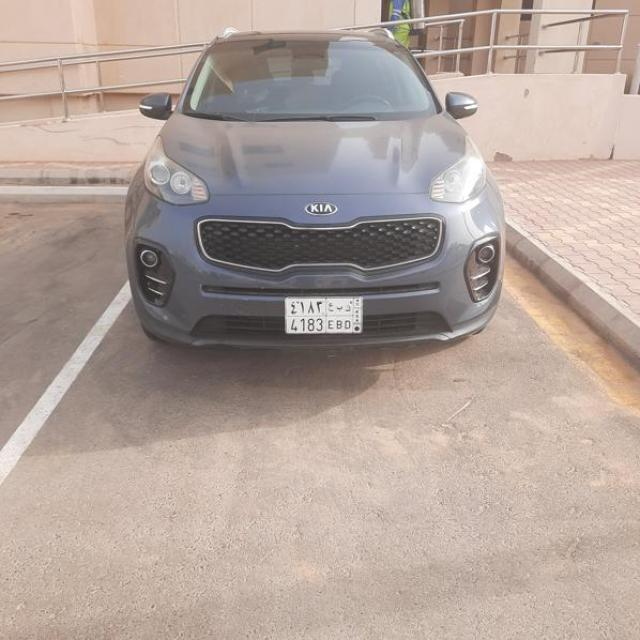license_plate: (284, 294, 364, 336)
